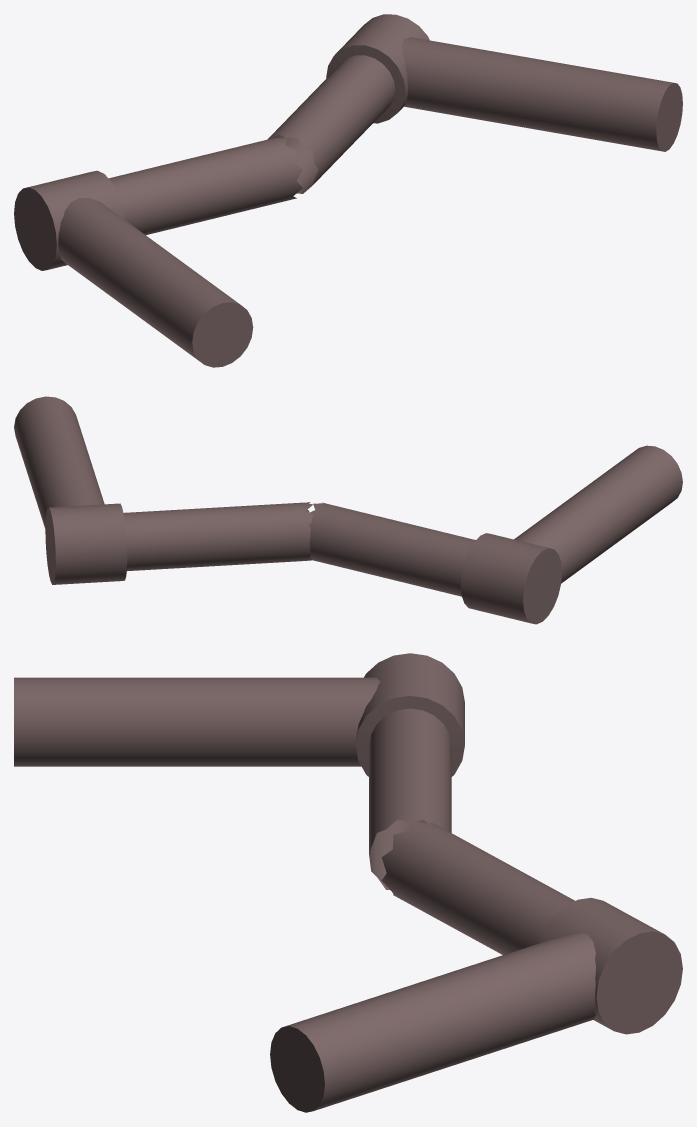
Rendered from broken pipe.fbx.
3 renders of one model, top to bottom at view 1: azimuth 30°, elevation 25°; view 2: azimuth 150°, elevation 25°; view 3: azimuth 270°, elevation 25°, orthographic. The views are drawn at different scales.
Parts seen in each view (by area): view 1: pCylinder3, pCylinder4; view 2: pCylinder3, pCylinder4; view 3: pCylinder4, pCylinder3.
Boxes of the visible parts, left/top/right/bottom form: pCylinder3: left=14, top=137, right=302, bottom=367; pCylinder4: left=267, top=14, right=682, bottom=193; pCylinder3: left=309, top=445, right=682, bottom=624; pCylinder4: left=14, top=396, right=312, bottom=584; pCylinder4: left=270, top=821, right=682, bottom=1112; pCylinder3: left=14, top=653, right=464, bottom=889.
Size of the model in its own units: 47.72 by 5.78 by 35.32.
